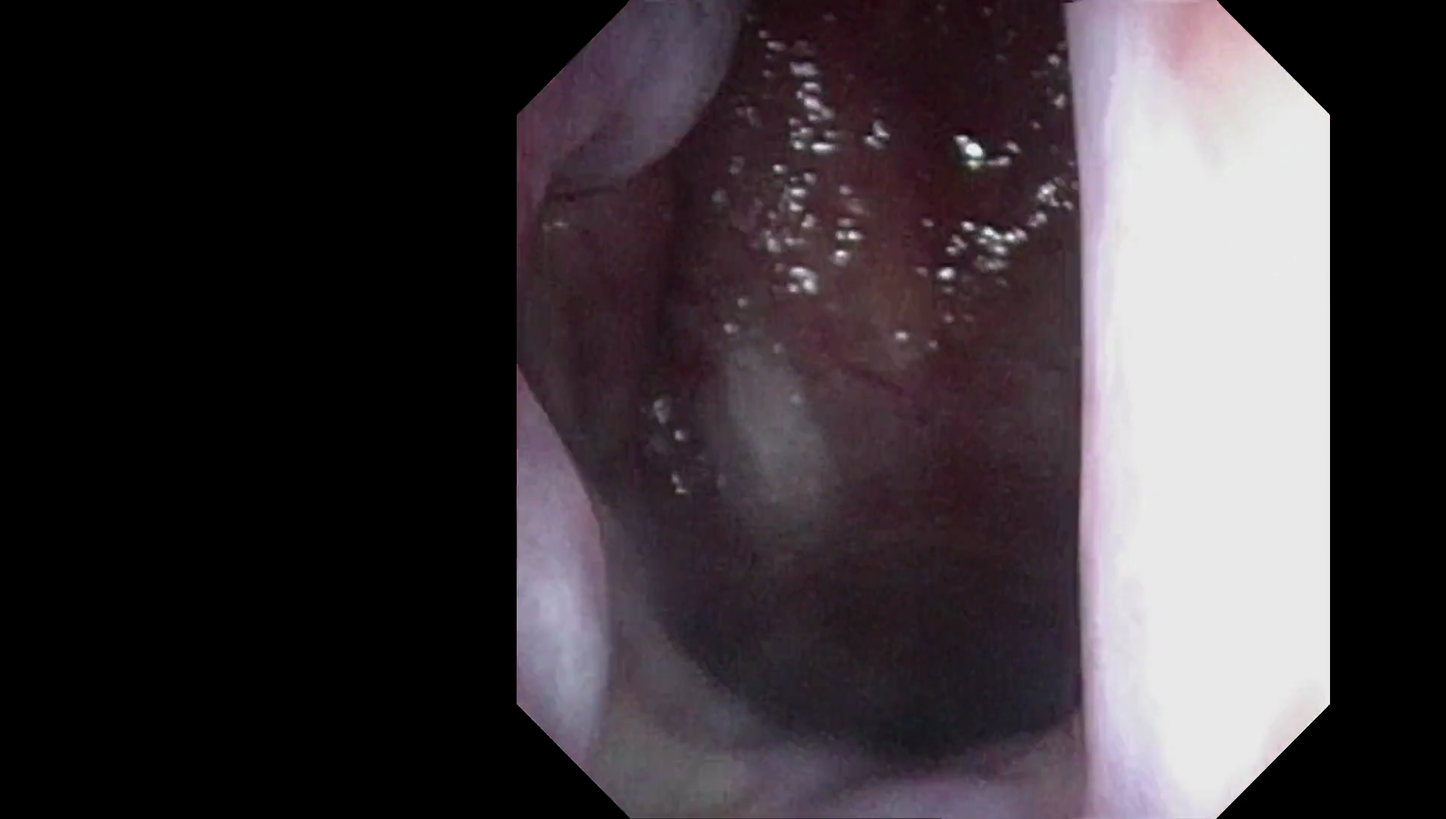close_wall: (1072, 32, 1323, 714)
next: (638, 494, 1102, 782)
